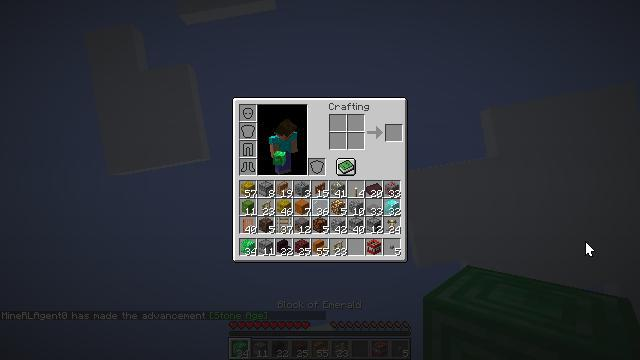cursor: (585, 241, 595, 257)
